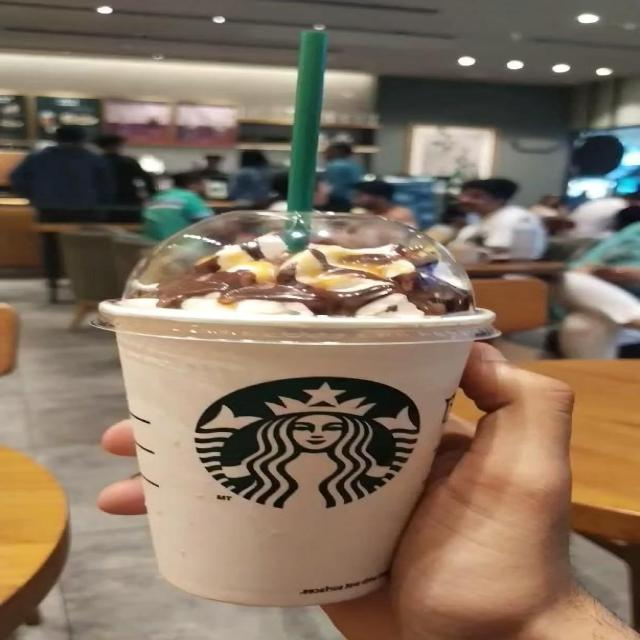starbucks: (178, 374, 429, 516)
